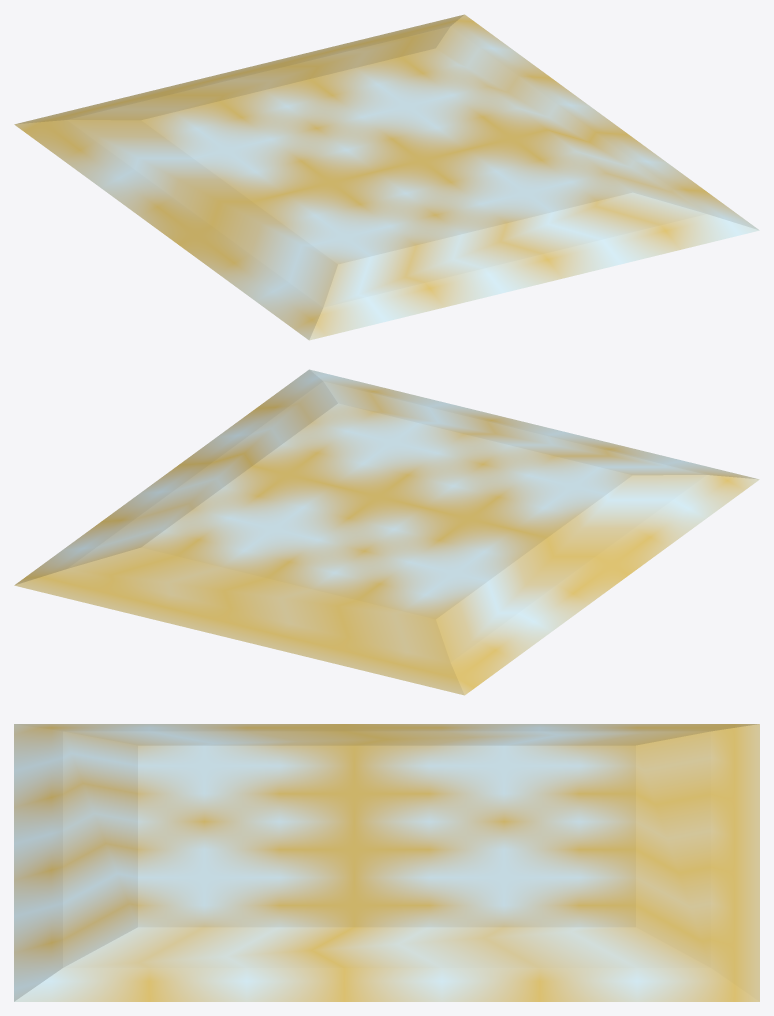
The model's file is outside-island-1.glb.
3 views of the same model, one above another, from view 1: azimuth 30°, elevation 25°; view 2: azimuth 150°, elevation 25°; view 3: azimuth 270°, elevation 25° (orthographic). The views are drawn at different scales.
Visible parts, largest first — view 1: Cube; view 2: Cube; view 3: Cube.
Part boxes in pixels (left/top/right/bottom): Cube: left=14, top=14, right=759, bottom=340; Cube: left=14, top=369, right=759, bottom=695; Cube: left=14, top=724, right=759, bottom=1001.
Size of the model in its own units: 43.74 by 1.95 by 49.61.
1 material, 1 textured.
